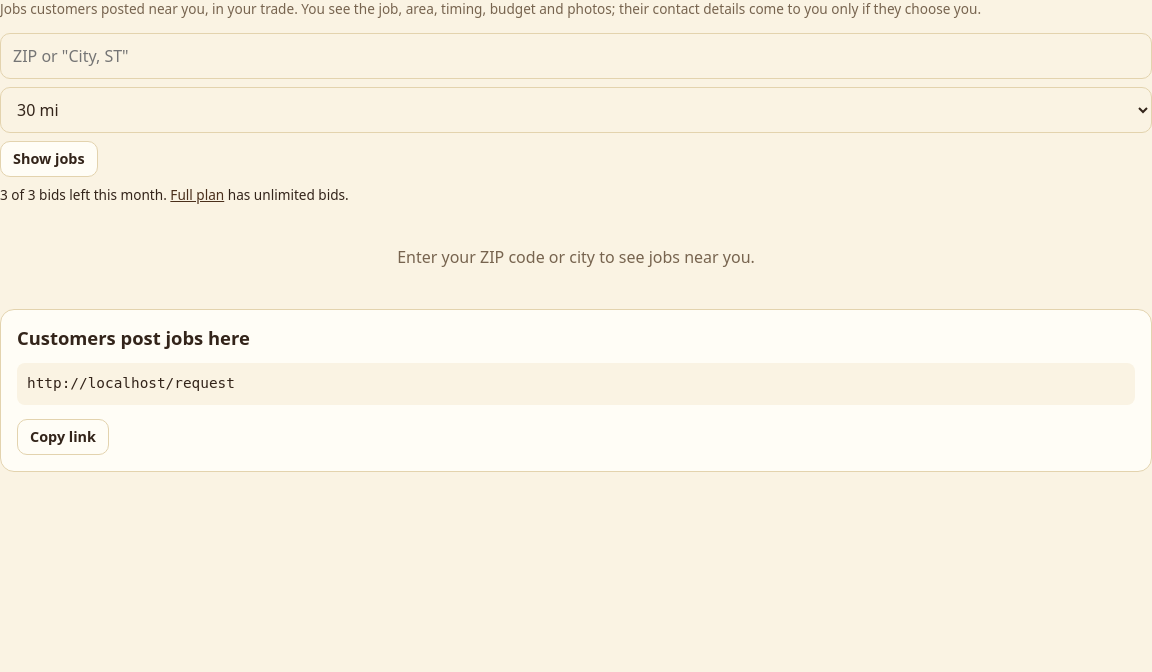
Scenario: Marketplace › marks missing details, explains the match and sends a bid
Type "78701" into the field named "Your area" at (576, 56), box [0, 33, 1151, 79]
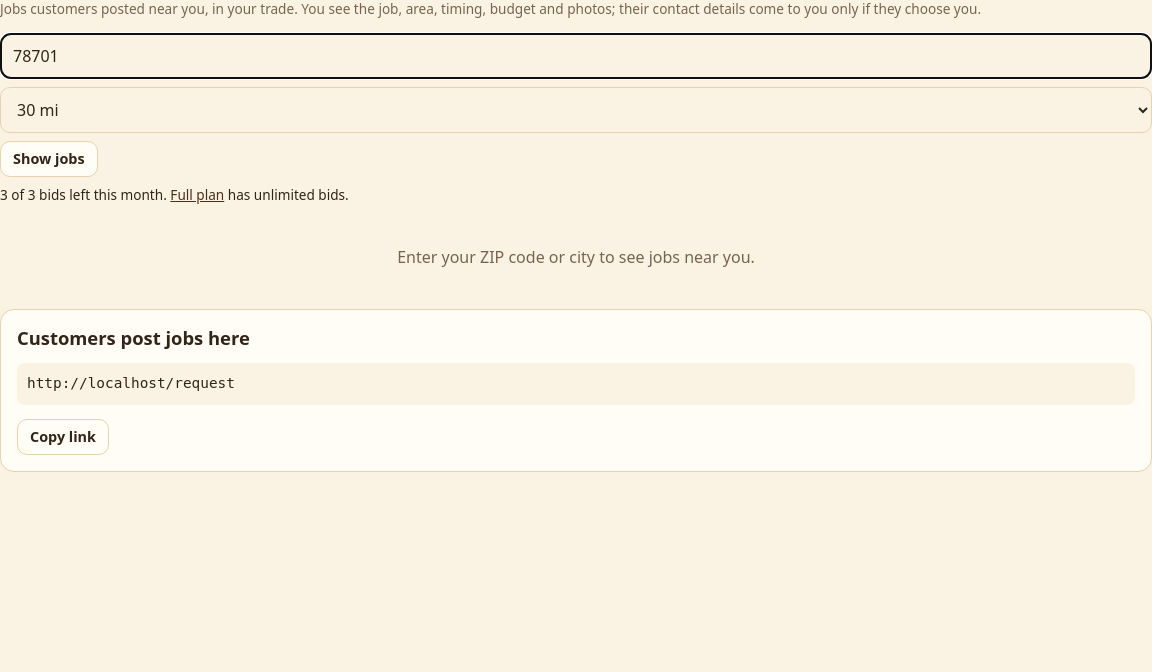
Click the button "Show jobs" at (49, 159), box [0, 141, 98, 177]
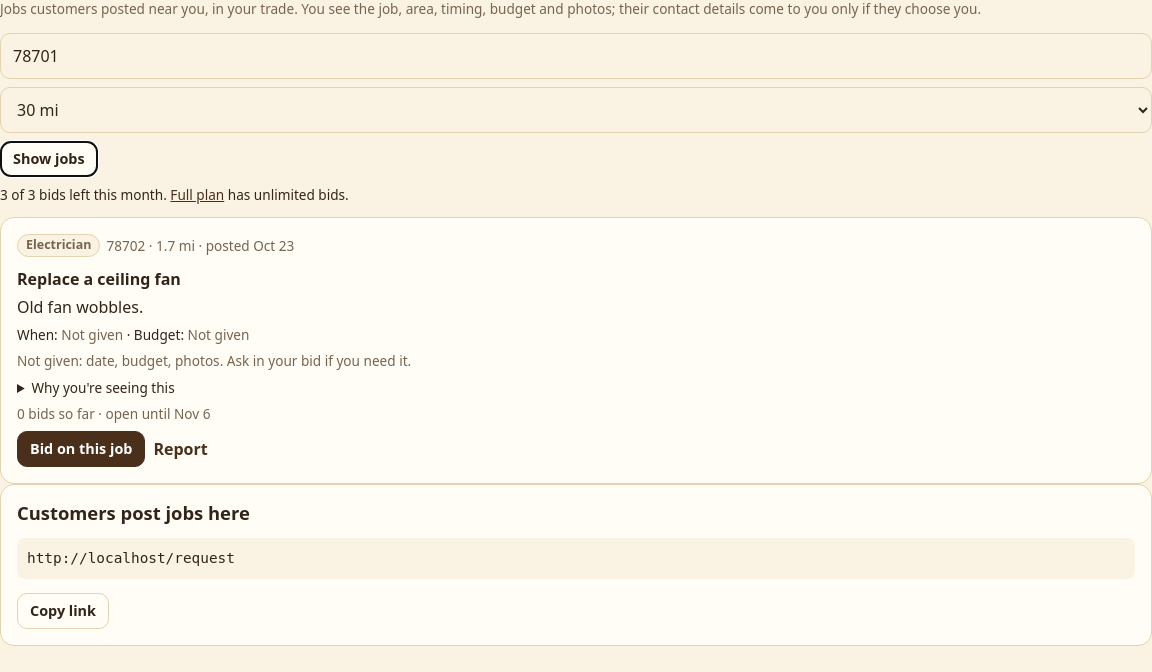
Expected: the heading "Replace a ceiling fan" is shown, [17, 268, 181, 290]
Expected: the text "Not given: date, budget, photos" is shown, [17, 352, 411, 370]
Click the button "Bid on this job" at (81, 449), box [17, 431, 145, 467]
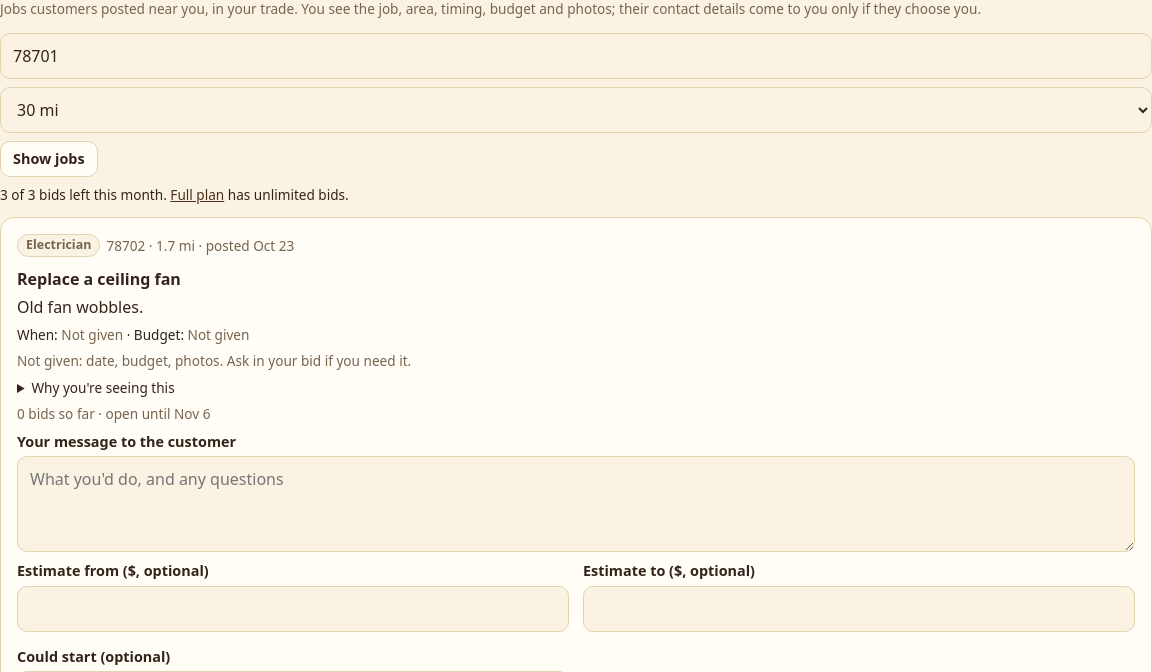
Type "Can do it Tuesday." into the text box labelled "Your message to the customer" at (576, 504), box [17, 456, 1135, 552]
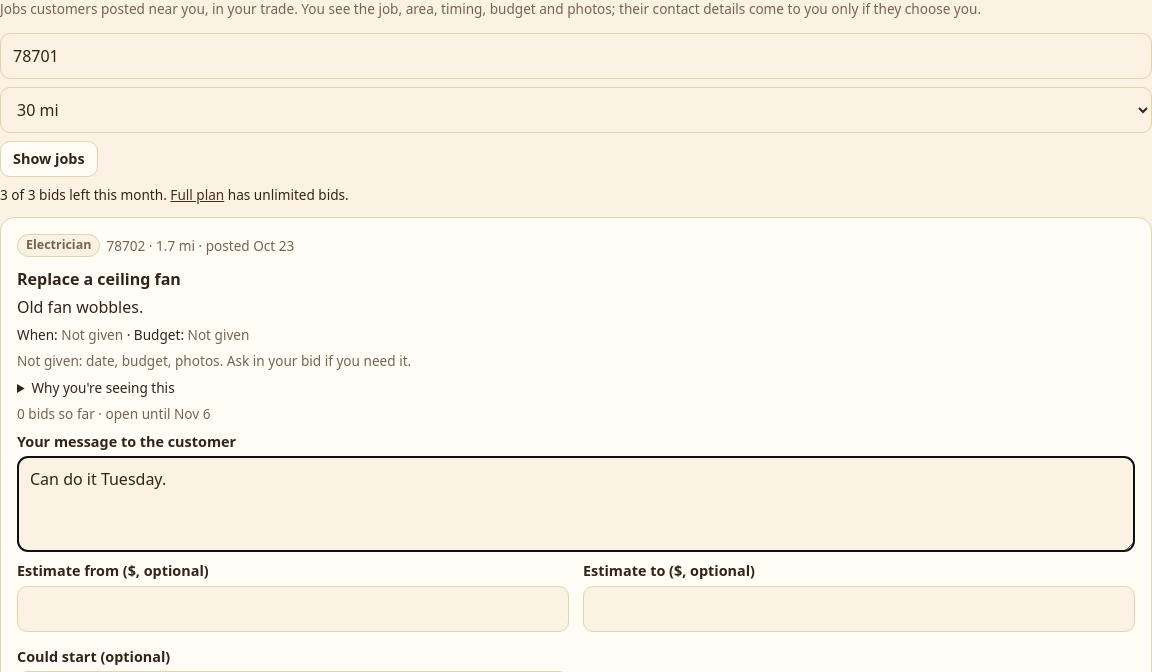
Type "250" into the field labelled "Estimate from ($, optional)" at (293, 609), box [17, 586, 569, 632]
(page scrolled)
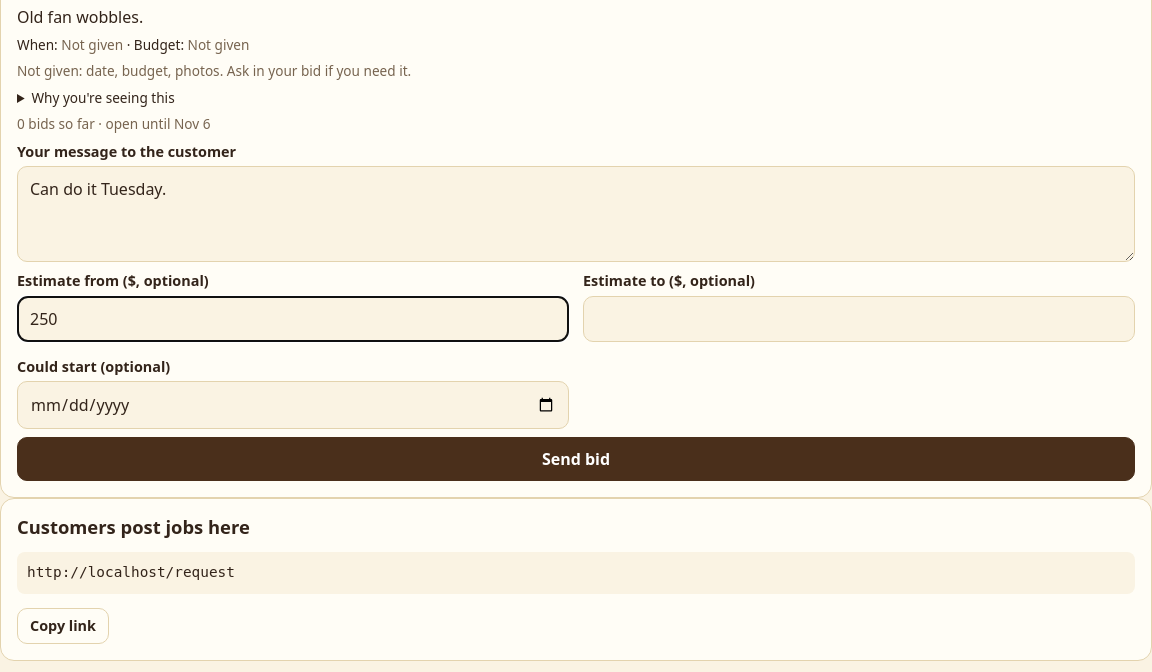
Click the button "Send bid" at (576, 460), box [17, 438, 1135, 482]
(page scrolled)
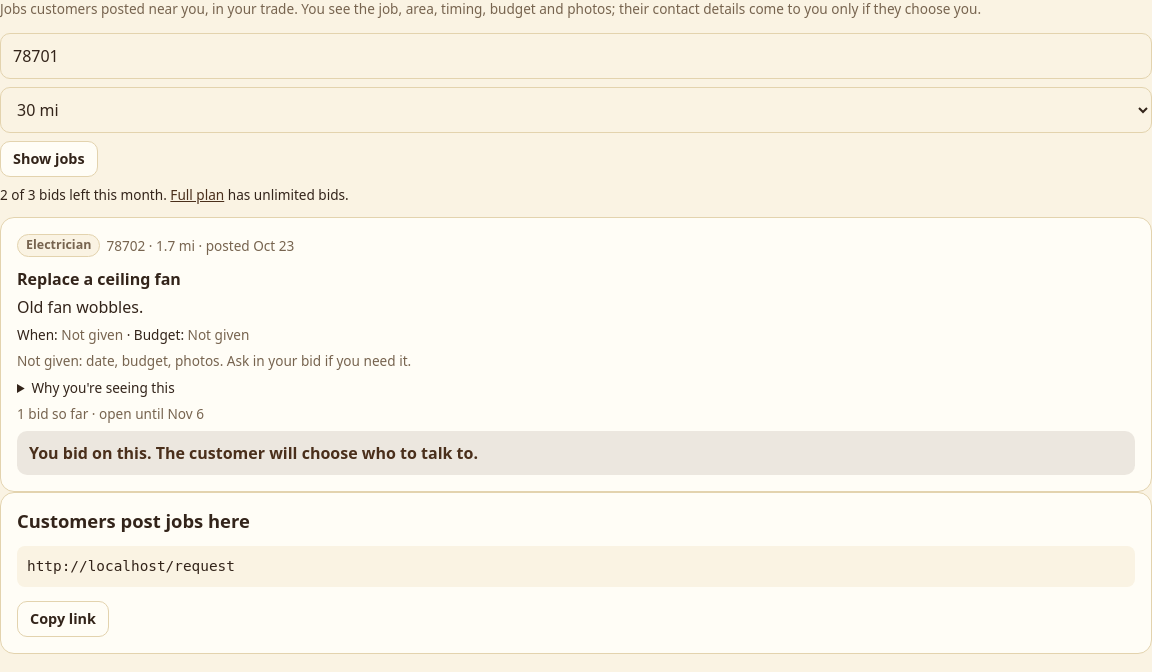
Expected: the text "You bid on this. The customer will choose who to talk to." is shown, [17, 431, 1135, 475]
Expected: the text "2 of 3 bids left this month. Full plan has unlimited bids." is shown, [0, 185, 349, 204]
